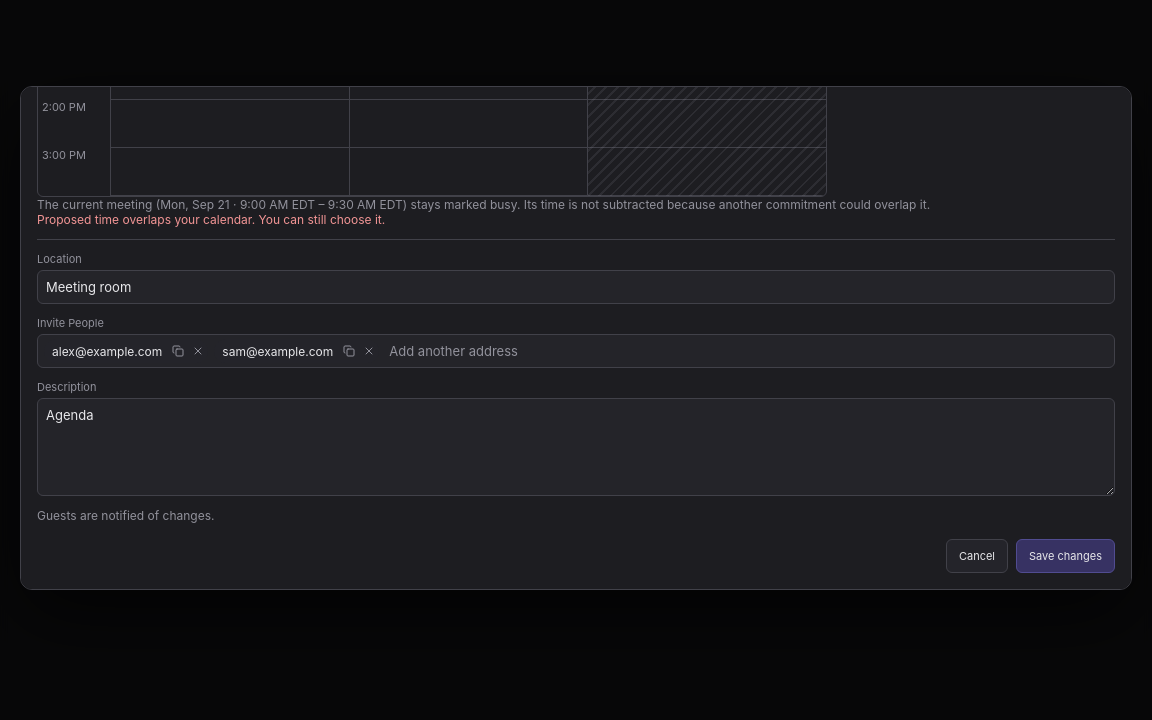
meeting rescheduling › blocks saving when the fresh availability check fails
(page scrolled)
What coordinates should you click on to do the following:
click the button "Save changes"
I would click on:
 (1066, 556)
Its box is [1016,539,1115,573].
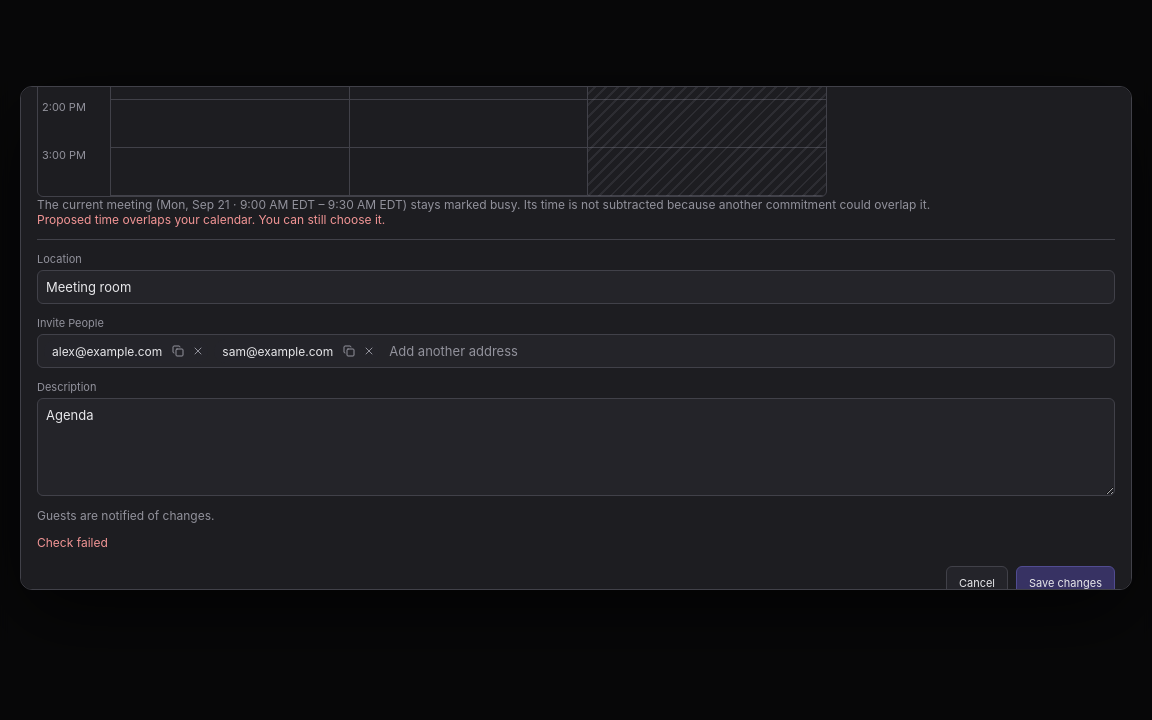
Expected: the message "Check failed" is shown, [37,535,108,550]
